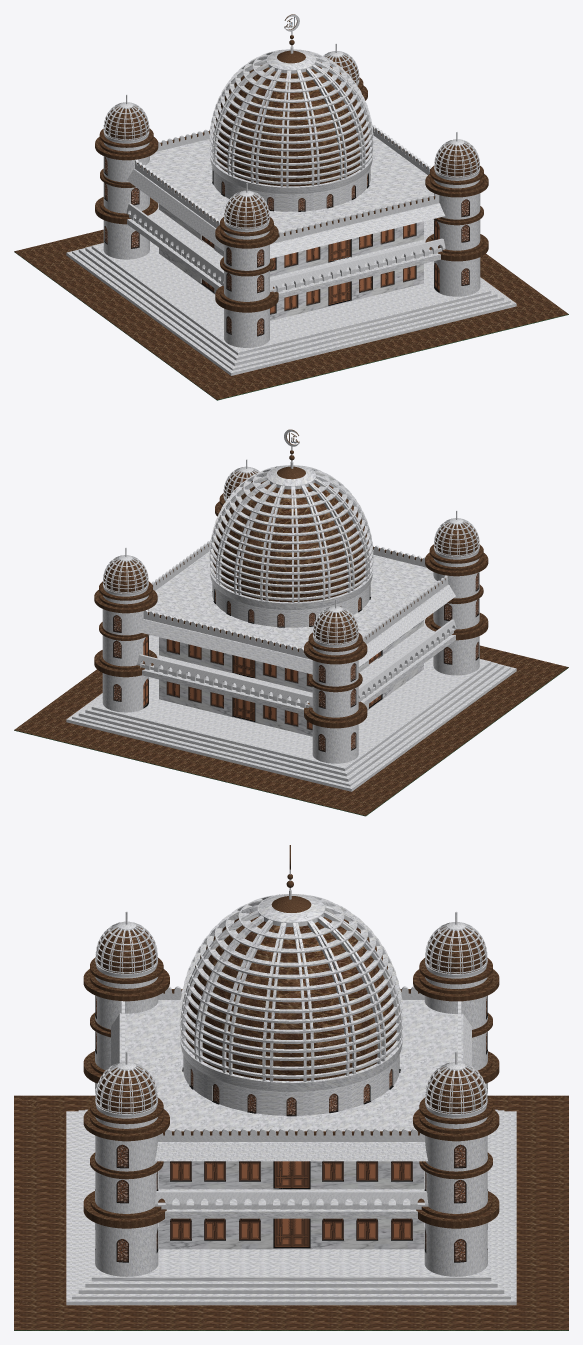
The model's file is bangunan_masjid.glb.
3 renders of one model, top to bottom at view 1: azimuth 30°, elevation 25°; view 2: azimuth 150°, elevation 25°; view 3: azimuth 270°, elevation 25°, orthographic. The views are drawn at different scales.
Visible parts, largest first — view 1: Object_27, Object_10, Object_14, Object_9, Object_11, Object_21, Object_15, Object_13, Object_30, Object_17, Object_8, Object_29 (+12 smaller); view 2: Object_27, Object_10, Object_14, Object_9, Object_8, Object_13, Object_21, Object_15, Object_19, Object_31, Object_11, Object_29 (+14 smaller); view 3: Object_27, Object_10, Object_14, Object_9, Object_21, Object_8, Object_31, Object_5, Object_11, Object_17, Object_30, Object_13 (+13 smaller).
Part boxes in pixels (bbox=[...]): Object_27: bbox=[14, 40, 568, 399]; Object_10: bbox=[66, 43, 516, 375]; Object_14: bbox=[127, 135, 445, 347]; Object_9: bbox=[210, 53, 372, 211]; Object_11: bbox=[135, 54, 445, 292]; Object_21: bbox=[159, 204, 423, 320]; Object_15: bbox=[213, 49, 372, 312]; Object_13: bbox=[103, 49, 347, 222]; Object_30: bbox=[224, 143, 488, 261]; Object_17: bbox=[212, 57, 480, 262]; Object_8: bbox=[126, 14, 433, 286]; Object_29: bbox=[95, 85, 483, 312]; Object_27: bbox=[14, 455, 568, 815]; Object_10: bbox=[66, 465, 516, 791]; Object_14: bbox=[137, 551, 479, 714]; Object_9: bbox=[106, 495, 372, 627]; Object_8: bbox=[137, 430, 456, 707]; Object_13: bbox=[235, 465, 459, 727]; Object_21: bbox=[159, 620, 423, 736]; Object_15: bbox=[216, 465, 479, 629]; Object_19: bbox=[103, 467, 373, 642]; Object_31: bbox=[99, 493, 483, 669]; Object_11: bbox=[151, 471, 478, 643]; Object_29: bbox=[94, 544, 483, 664]; Object_27: bbox=[14, 880, 568, 1330]; Object_10: bbox=[66, 894, 516, 1305]; Object_14: bbox=[95, 1000, 471, 1218]; Object_9: bbox=[180, 935, 483, 1115]; Object_21: bbox=[159, 1161, 423, 1249]; Object_8: bbox=[154, 869, 428, 1209]; Object_31: bbox=[83, 957, 492, 1218]; Object_5: bbox=[170, 1161, 412, 1240]; Object_11: bbox=[96, 894, 424, 1141]; Object_17: bbox=[95, 894, 385, 1213]; Object_30: bbox=[83, 927, 460, 1228]; Object_13: bbox=[101, 894, 487, 1070].
Bounding box in the file's own units: 32.16 × 23.5 × 32.16.
Materials: 14 (11 with a texture image).
